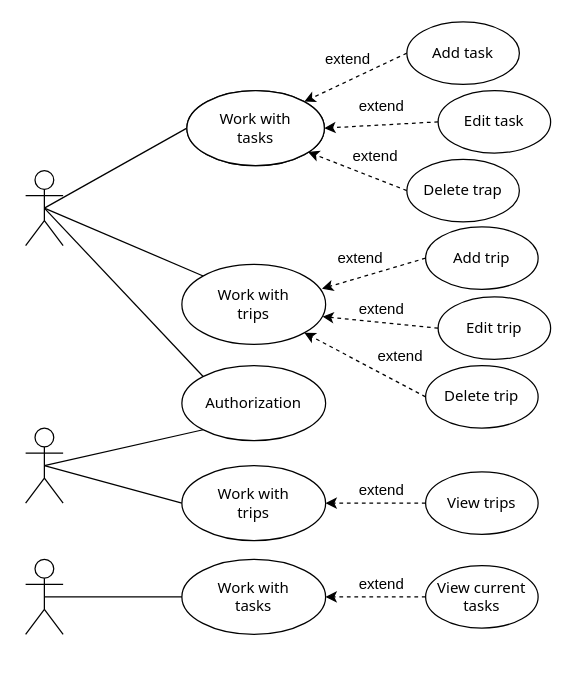
Image size: 573x683. Some labels were removed from this diagram. The centre of each missing label's shape, as x and y in pixels:
"Admin" belongs at (43,207).
"Guest" belongs at (43,596).
"User" belongs at (43,465).
